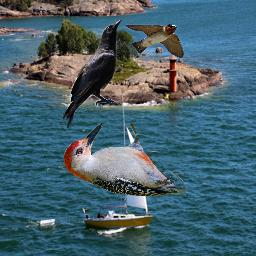Crow: (62, 19, 122, 128)
Swallow: (124, 24, 184, 58)
Woodpecker: (64, 123, 186, 197)
